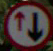Two way: (7, 6, 48, 41)
